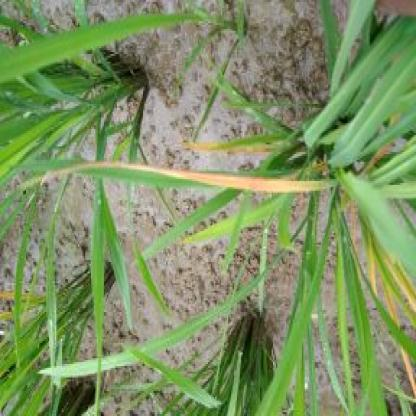Tungro: (47, 166, 319, 199)
